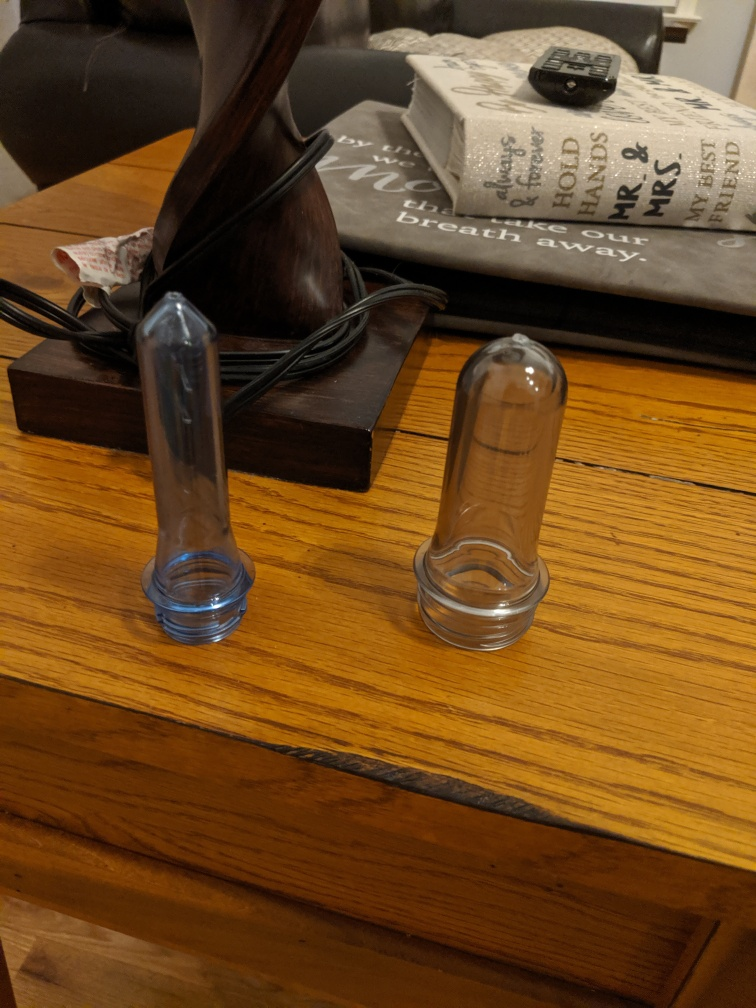preform: (409, 327, 574, 658), (120, 282, 265, 651)
